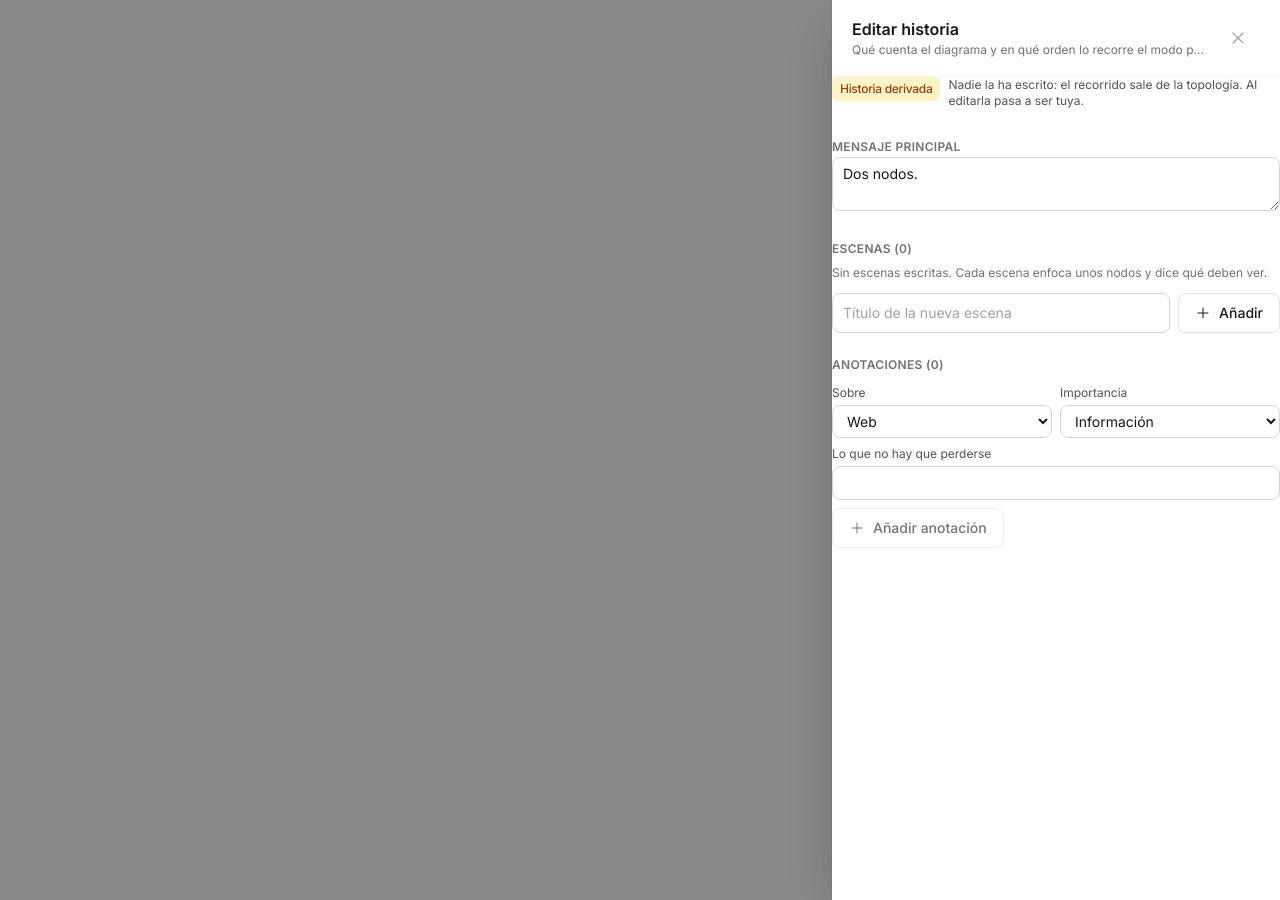
Scenario: DiagramStoryEditorPanel › descartar vuelve a la historia guardada sin escribir nada
This screenshot has width=1280, height=900.
In the field labelled "Título de la nueva escena": (1001, 313) left=832, top=293, right=1170, bottom=333, type "Una"
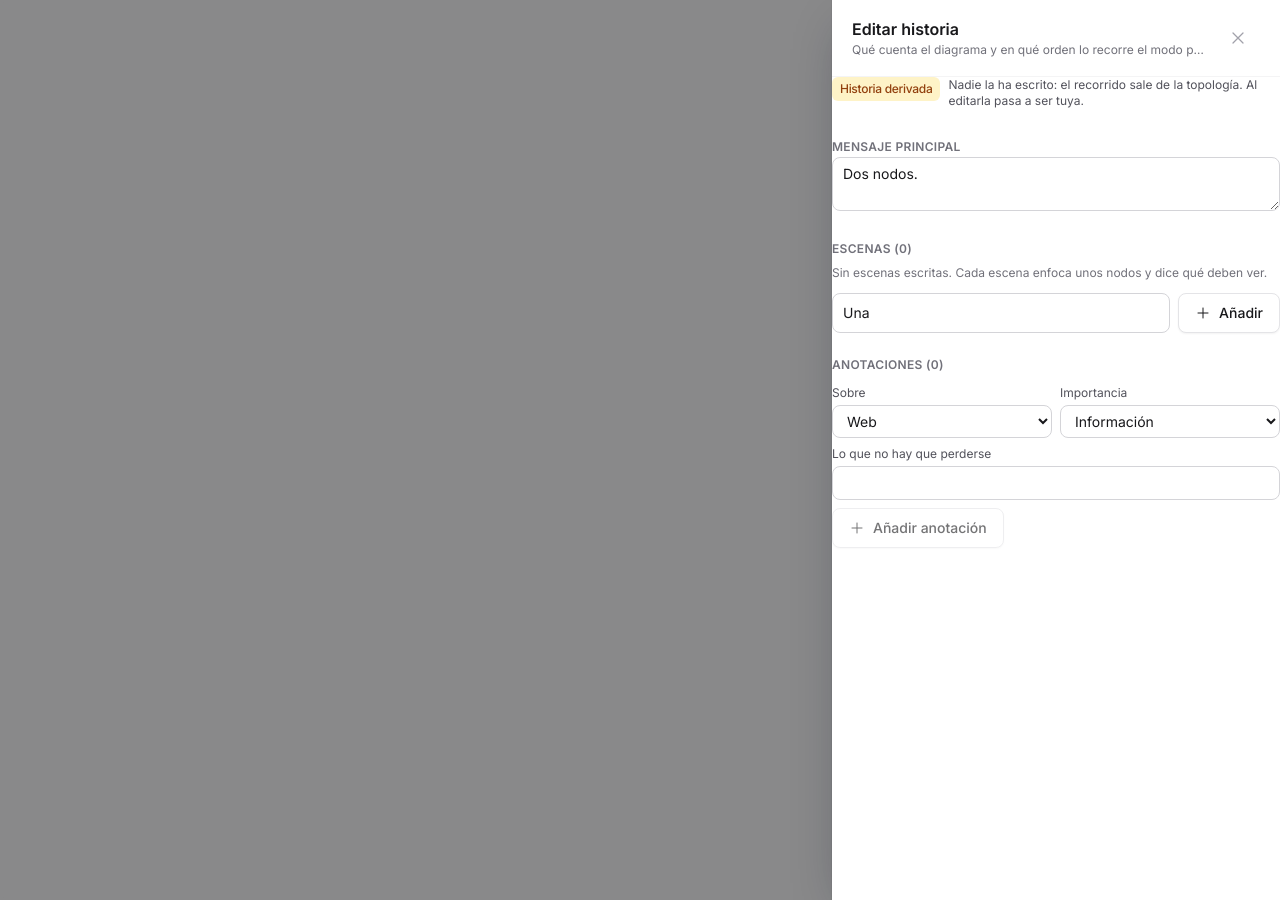
Click the button "Añadir": (1229, 313) left=1178, top=293, right=1279, bottom=333
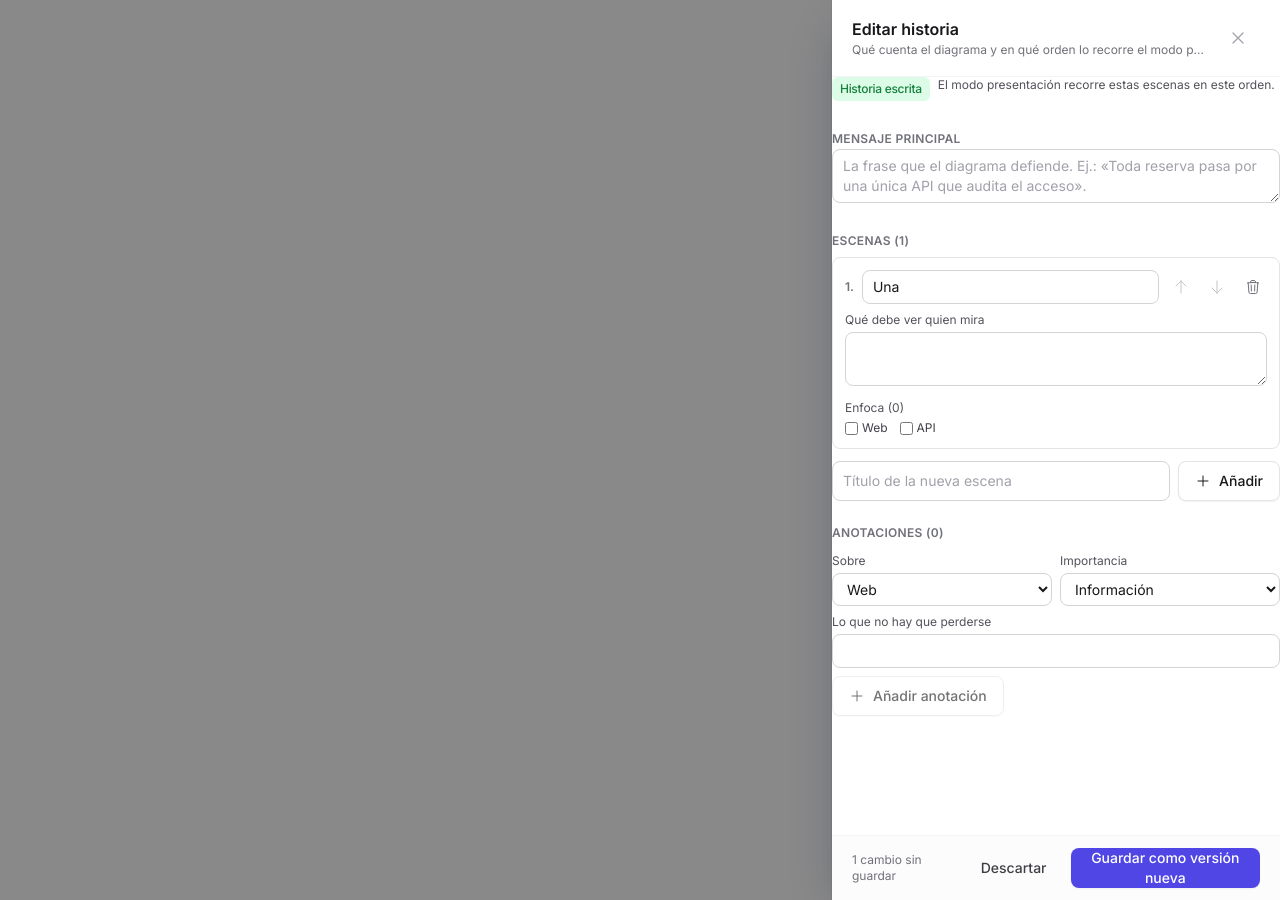
Click the button "Descartar": (1014, 868) left=965, top=848, right=1063, bottom=888
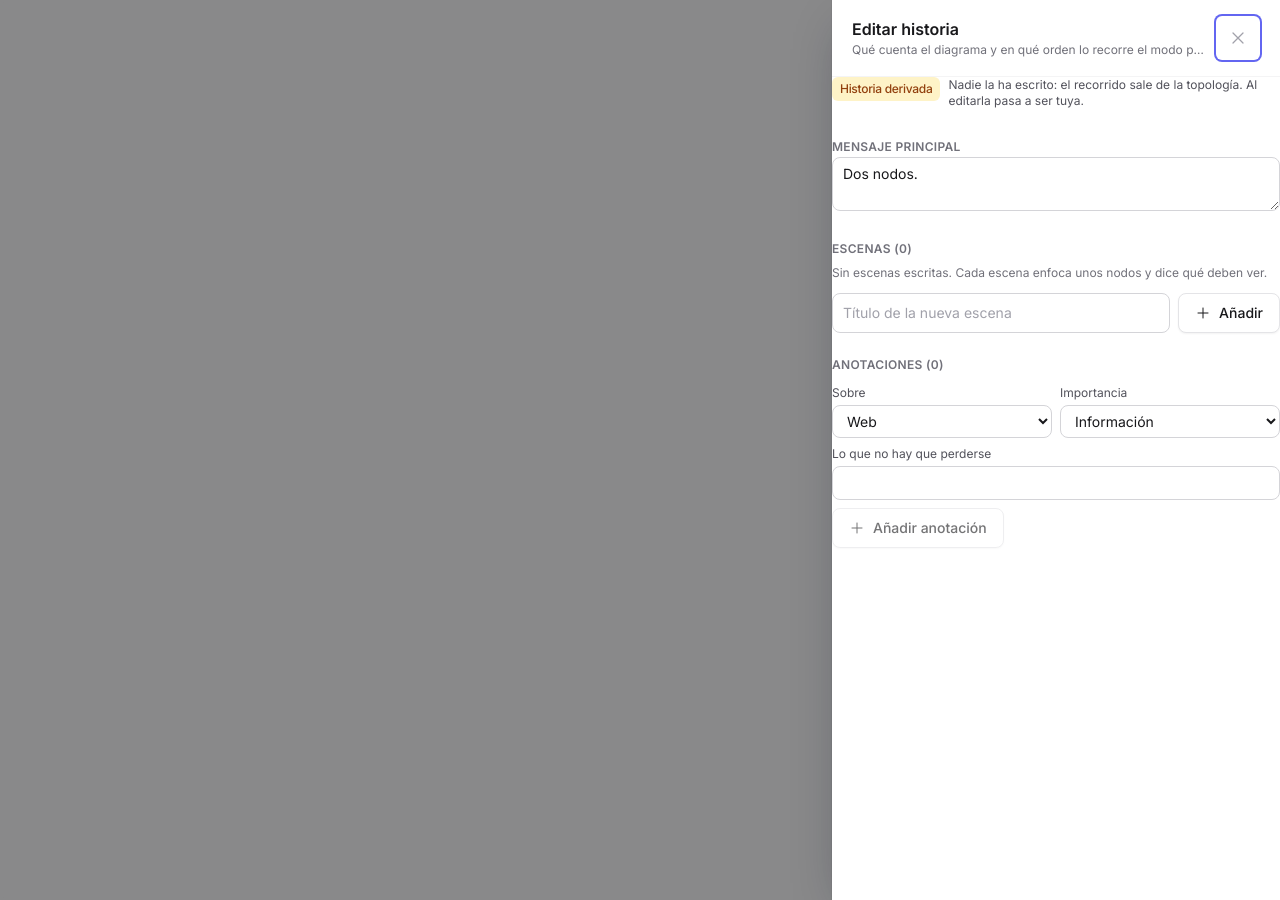
Check: the text "Historia derivada" is shown, box left=832, top=77, right=940, bottom=101
